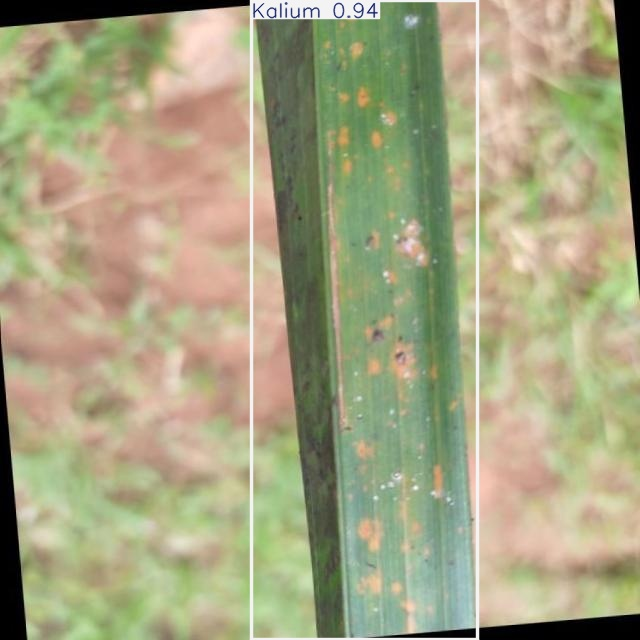Kalium: (251, 0, 477, 639)
